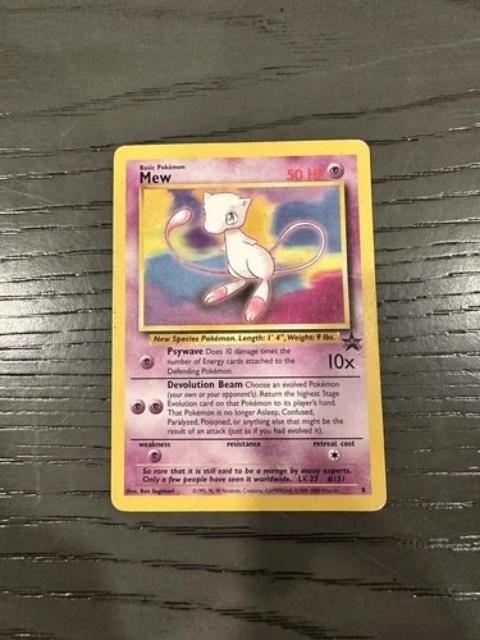Card: (105, 137, 388, 515)
Name: (134, 164, 174, 186)
